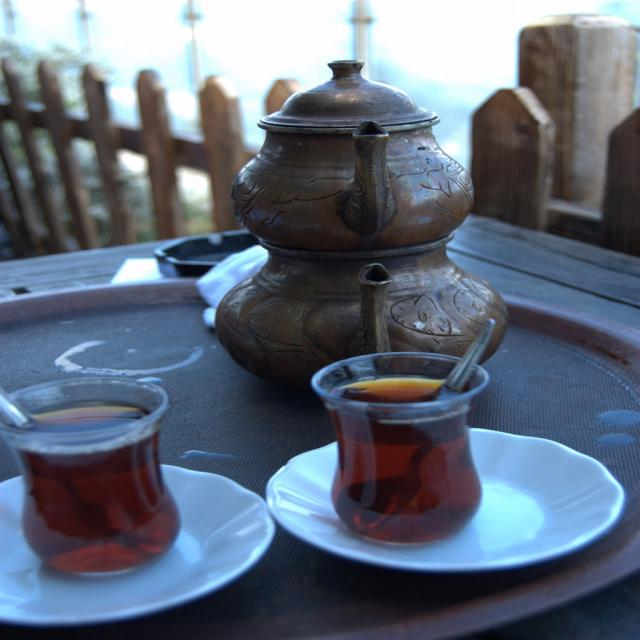Tea: (0, 405, 183, 577), (322, 379, 486, 544)
